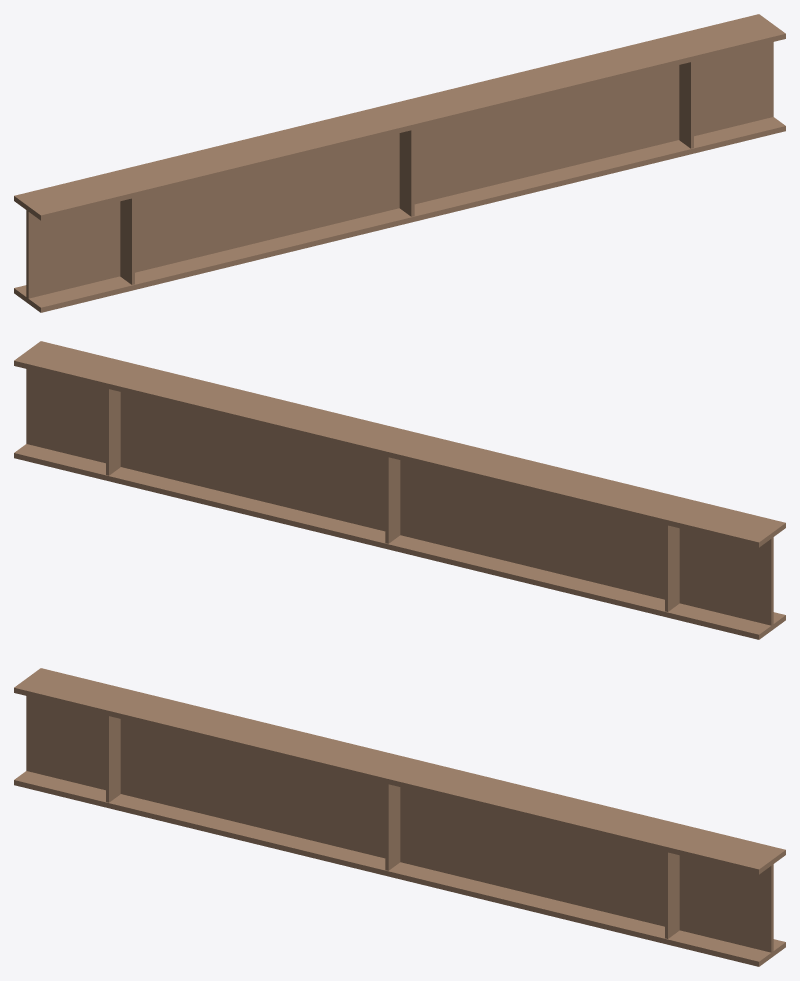
The model's file is dm_ibeam.glb.
The picture shows the model from 3 angles, top to bottom: view 1: azimuth 30°, elevation 25°; view 2: azimuth 150°, elevation 25°; view 3: azimuth 330°, elevation 25°; orthographic projection.
Visible parts, largest first — view 1: dm_ibeam; view 2: dm_ibeam; view 3: dm_ibeam.
Boxes of the visible parts, x1,y1,x2,y2 form: dm_ibeam: (14, 14, 785, 312); dm_ibeam: (14, 341, 785, 639); dm_ibeam: (14, 668, 785, 966).
Size of the model in its own units: 2.4 by 0.3 by 0.15.
